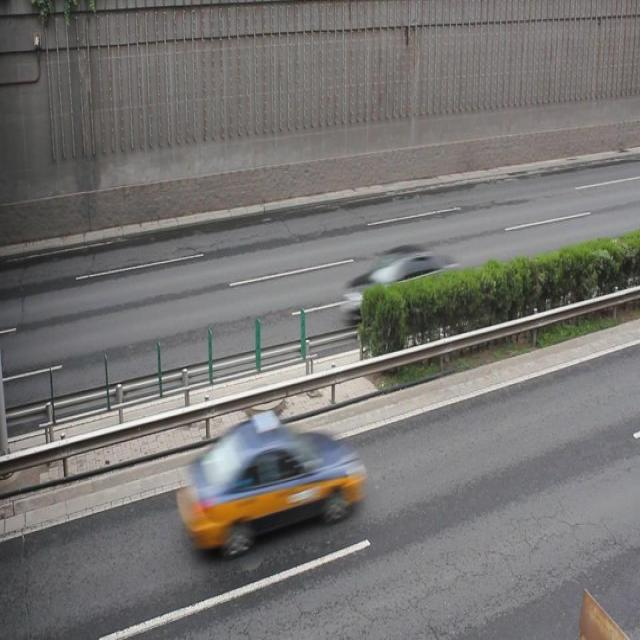car: (180, 416, 366, 550), (341, 241, 464, 333)
